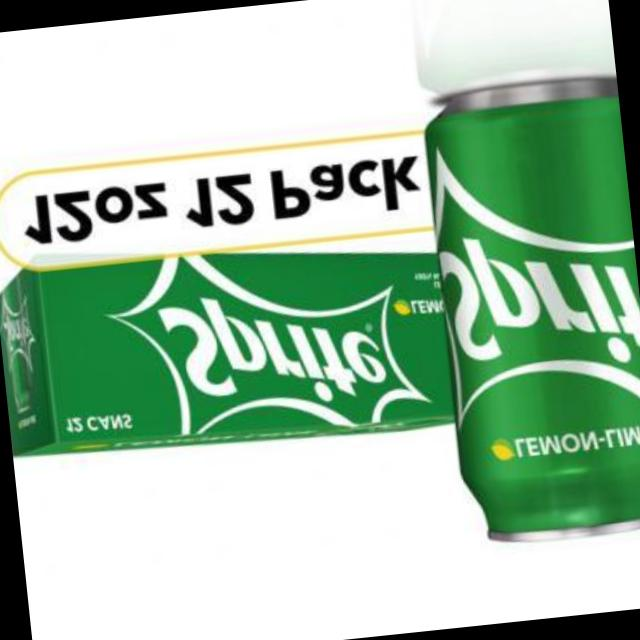metal: (425, 82, 640, 542)
